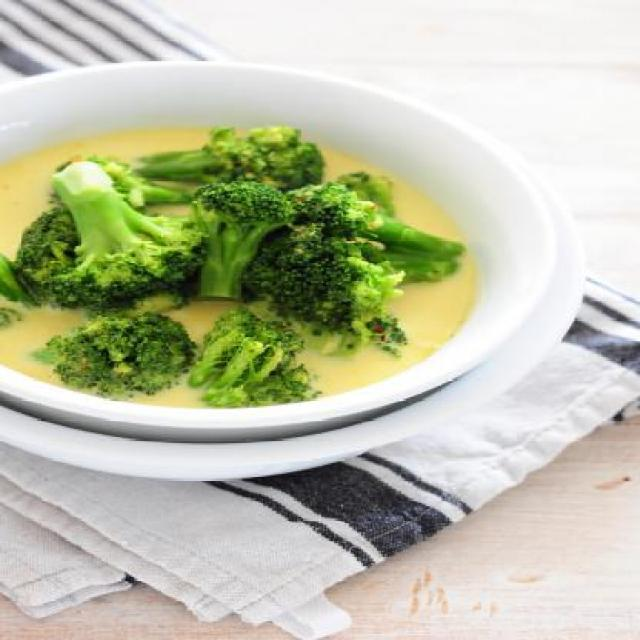Broccoli: (0, 124, 463, 408)
